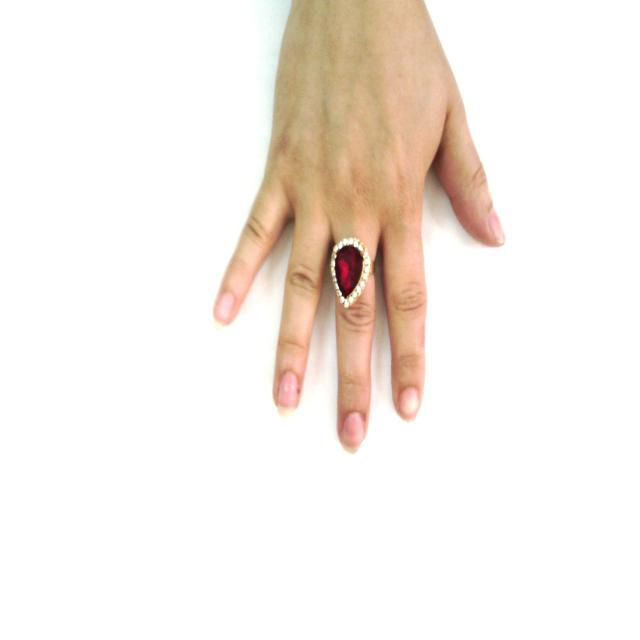Fingernail: (278, 373, 299, 420), (343, 413, 364, 454), (216, 293, 236, 330), (400, 388, 418, 417), (490, 211, 504, 243)
